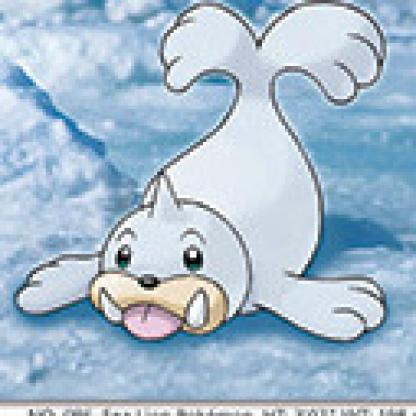Seel: (7, 1, 414, 355)
